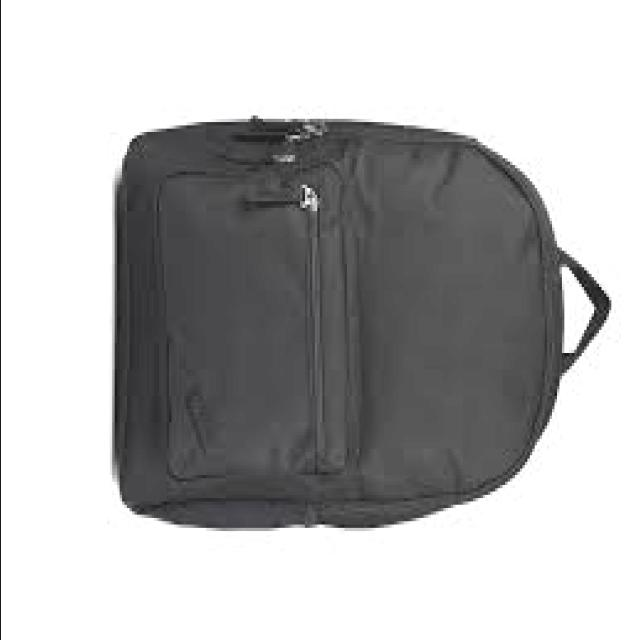backpack: (115, 113, 614, 532)
